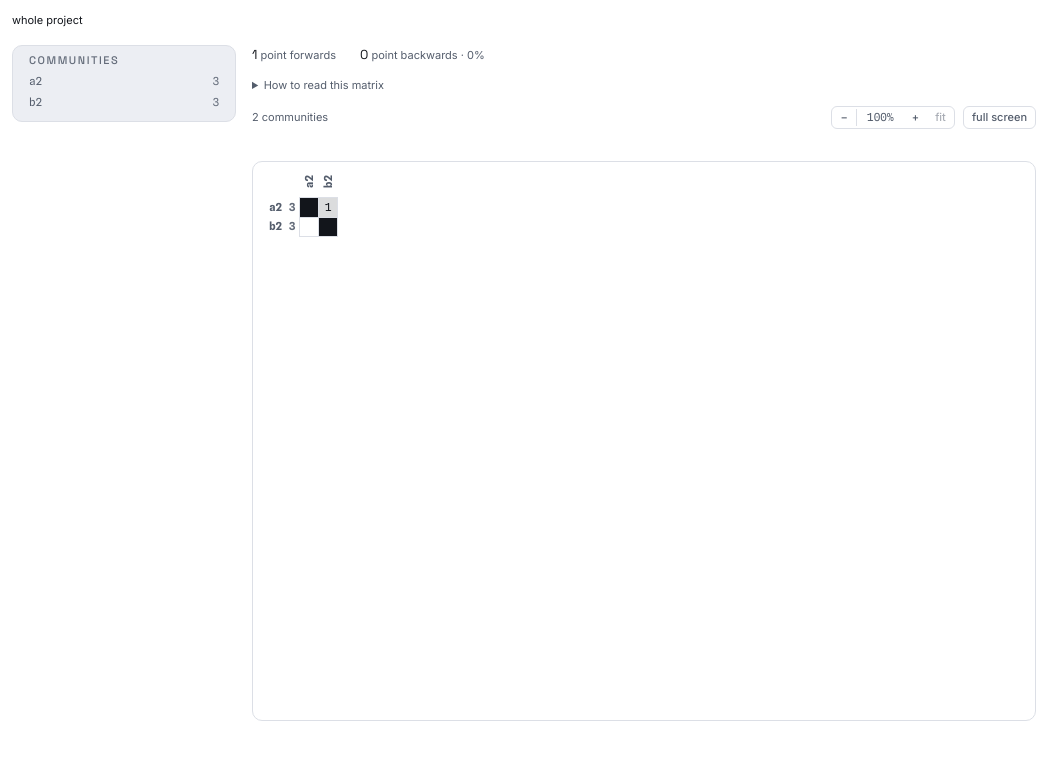
Test case: MapCanvas › opens a community when its name is clicked, and comes back
The image size is (1048, 778).
Click the 1st button "a2 3": coordinates (124, 82) x1=21 y1=71 x2=227 y2=92
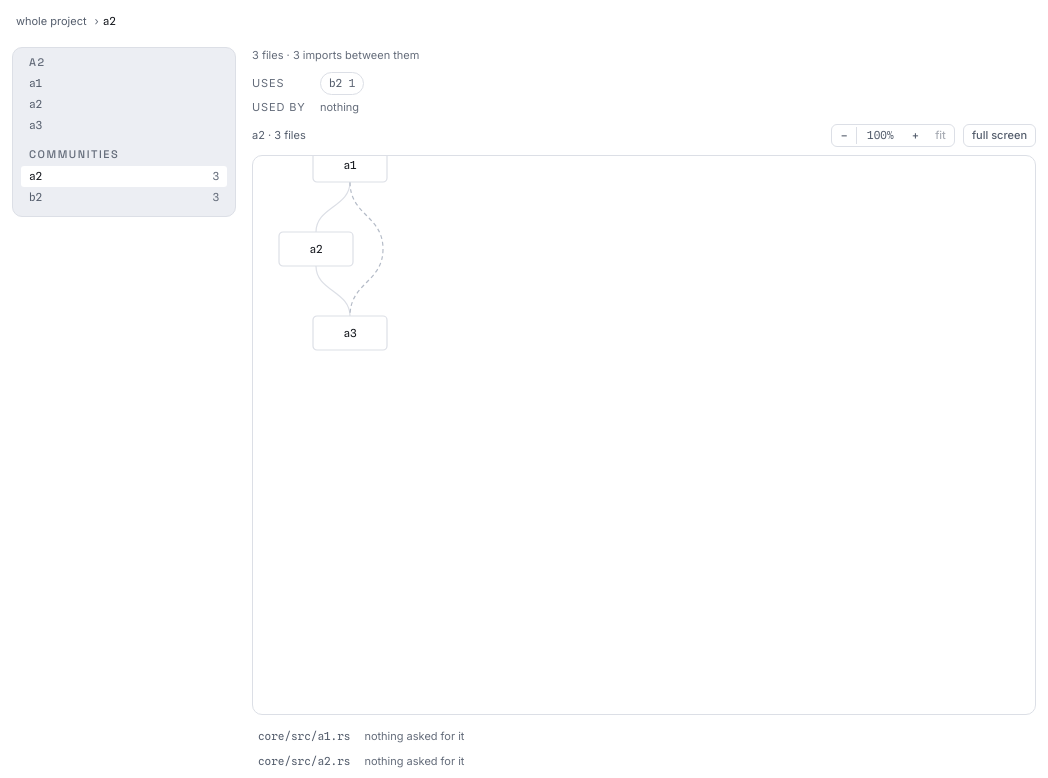
Click the button "whole project": coordinates (51, 22) x1=12 y1=12 x2=90 y2=31
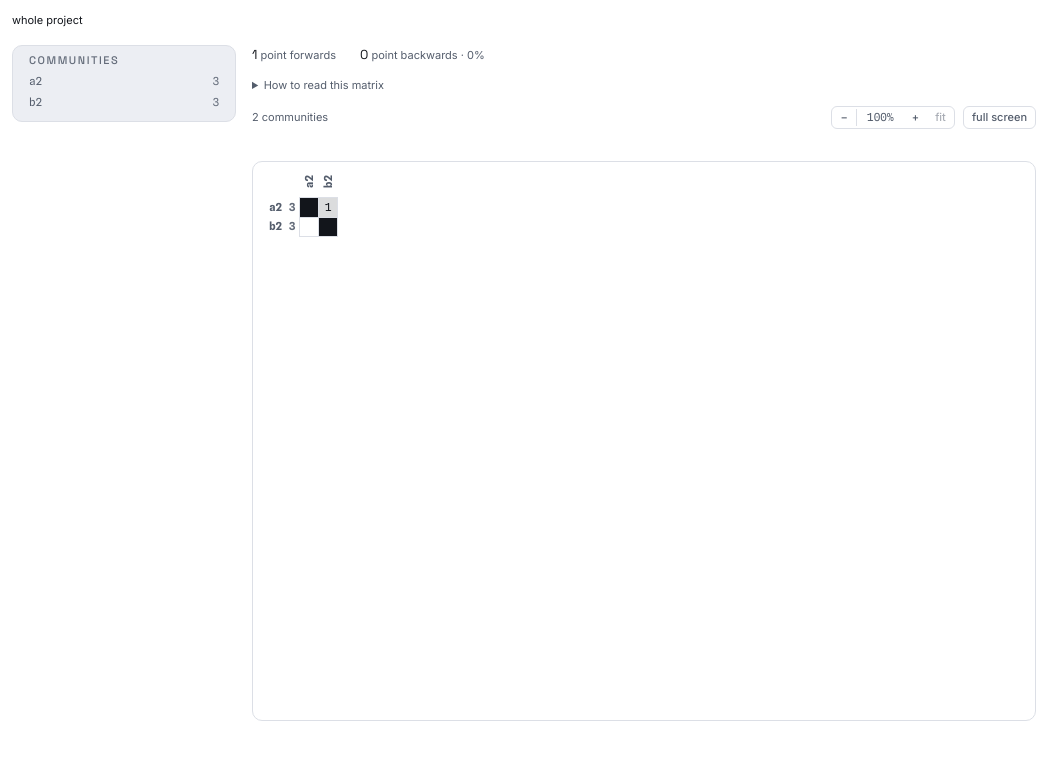
Expected: the table is shown, x1=265 y1=174 x2=338 y2=237
